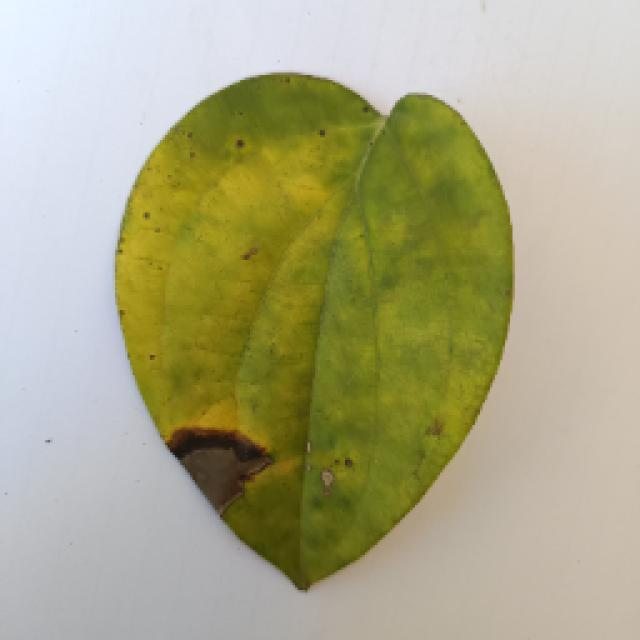slow-decline: (100, 78, 515, 590)
